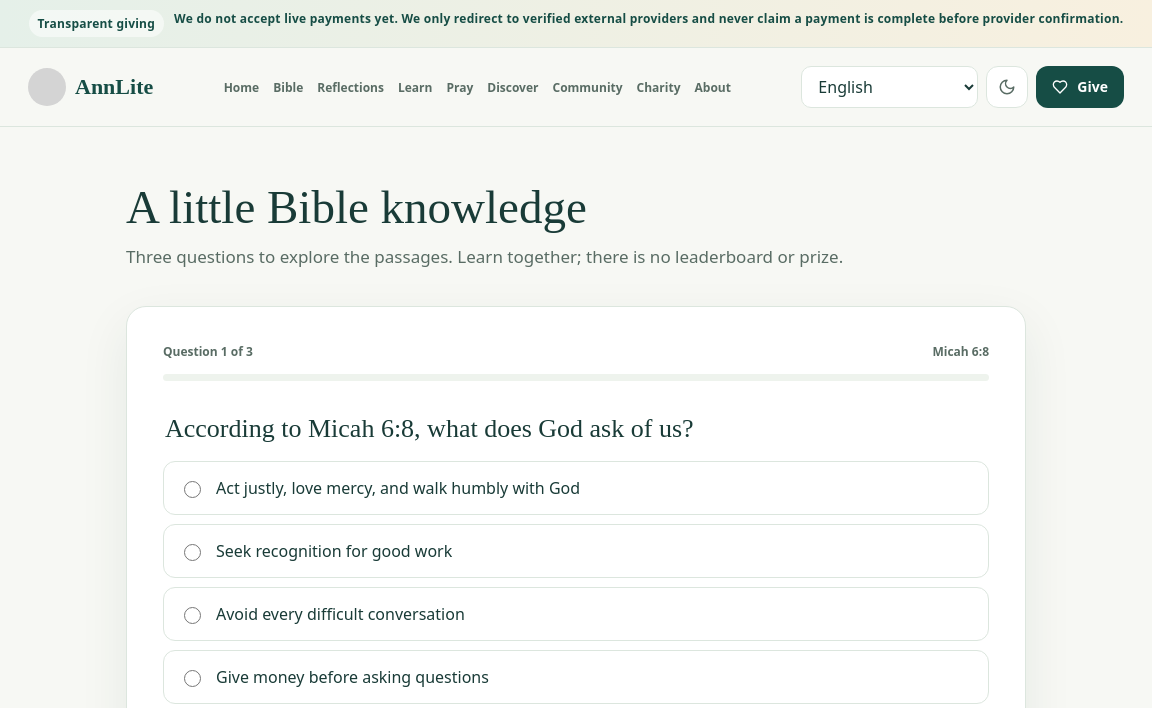
Test: AnnLite web experience › quiz checks the cited passage without creating a public leaderboard
Expected: the navigation bar named "Main navigation" is shown, x1=224 y1=78 x2=731 y2=96
Click the radio button labelled "Act justly, love mercy, and walk humbly with God" at (192, 490), box x1=184 y1=481 x2=201 y2=498
(page scrolled)
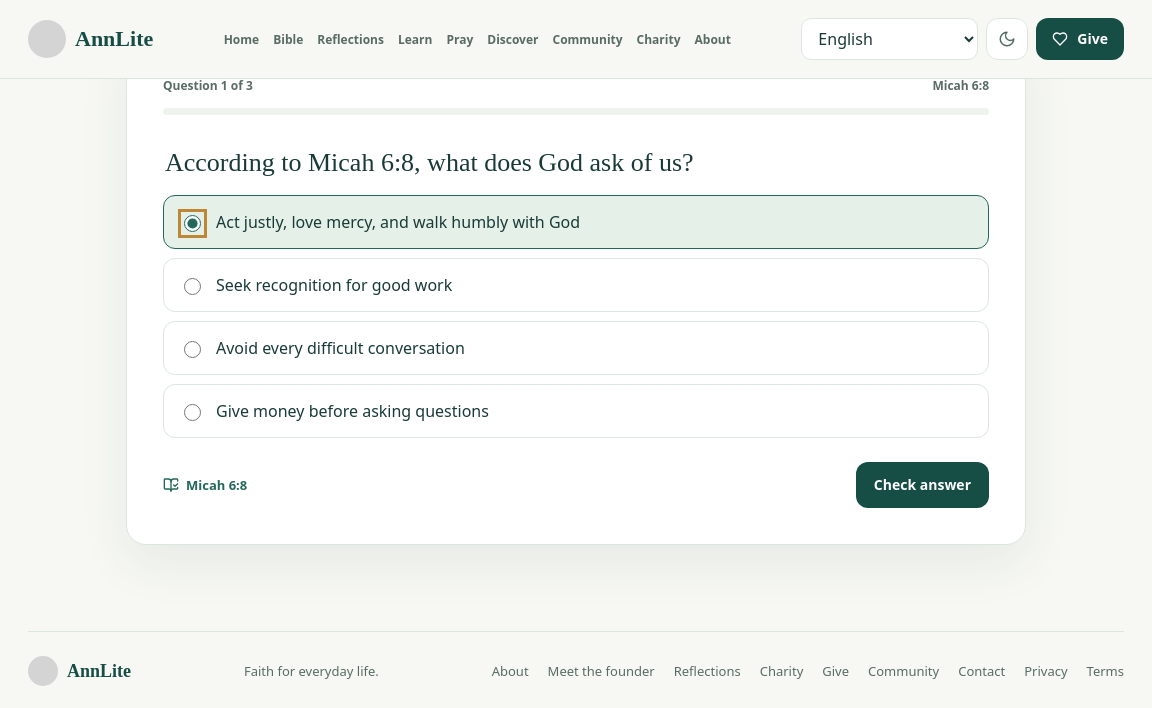
Click the button "Check answer" at (922, 485), box x1=856 y1=462 x2=989 y2=508
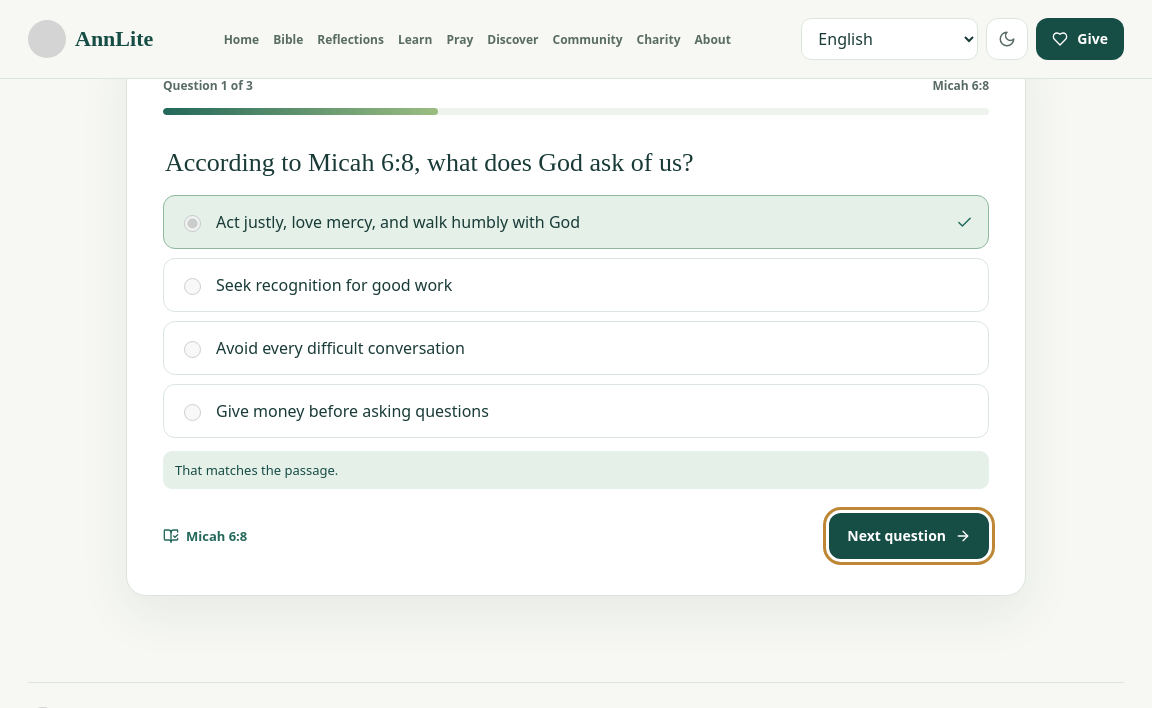
Expected: the message reads "That matches the passage.", x1=175 y1=461 x2=338 y2=479
